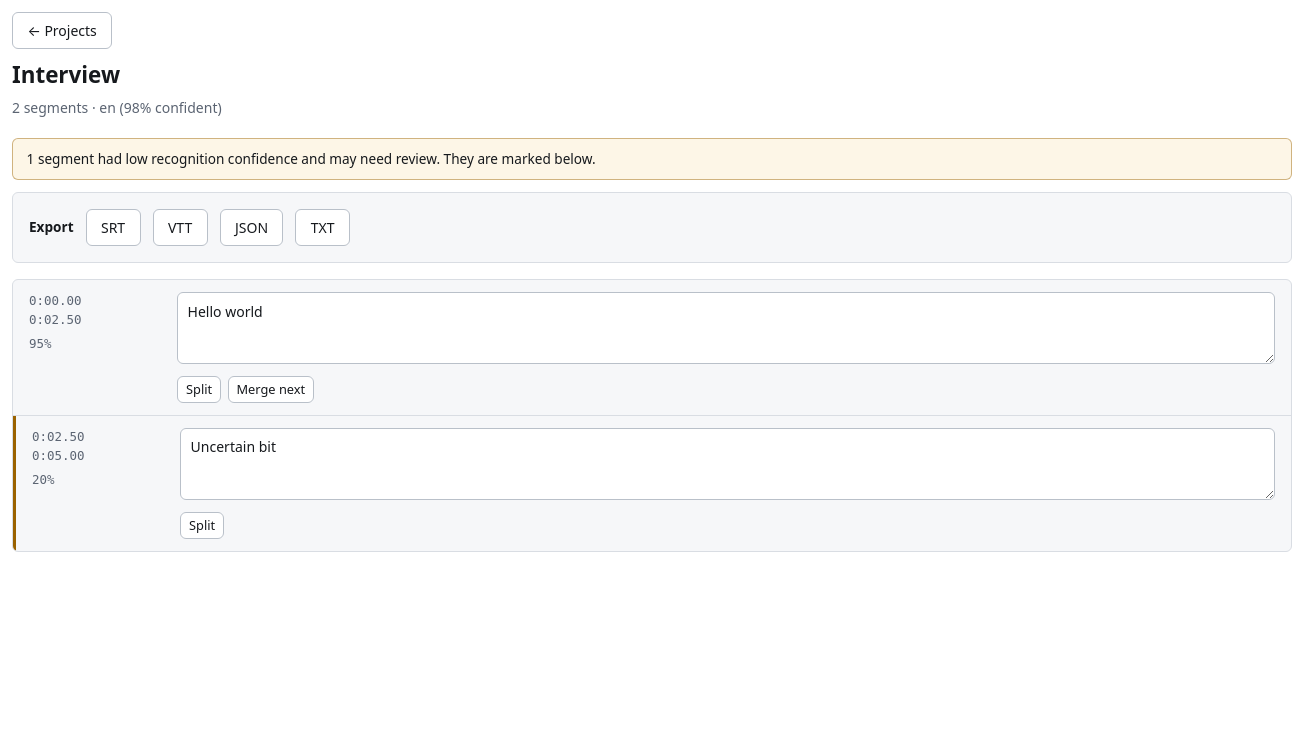
TranscriptPage › saves an edit and shows the original alongside it
Replace the text in the text box showing "Hello world" with "Hello there" at (726, 328), box [177,292,1275,364]
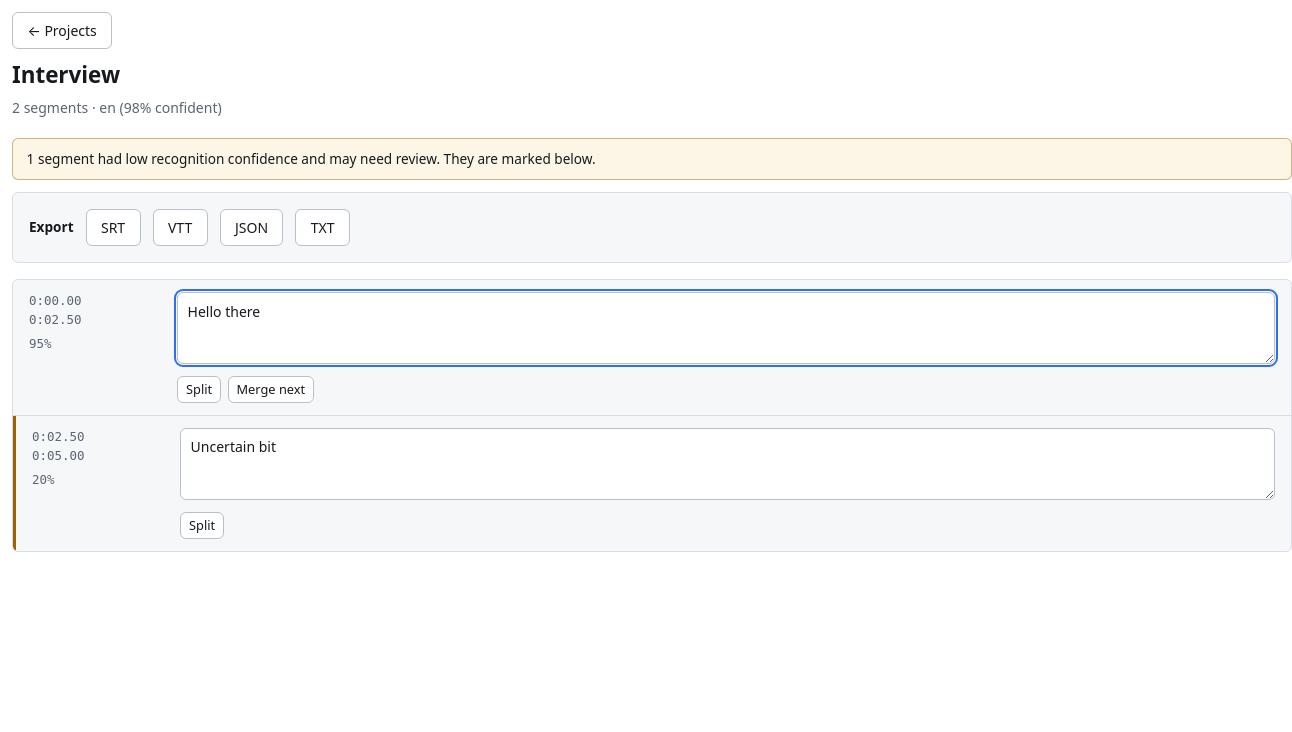
Press Tab
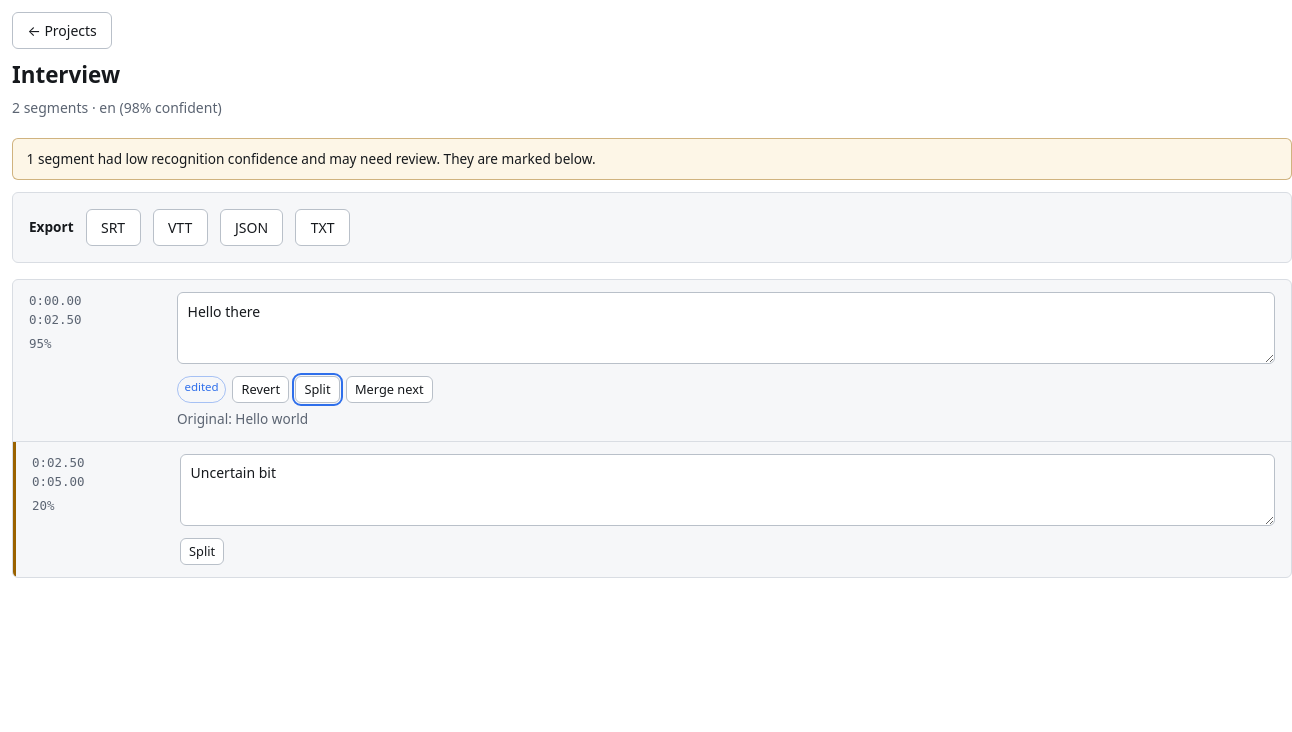
Expected: the text "Original: Hello world" is shown, [177,409,308,428]
Expected: the text "edited" is shown, [177,376,226,403]
